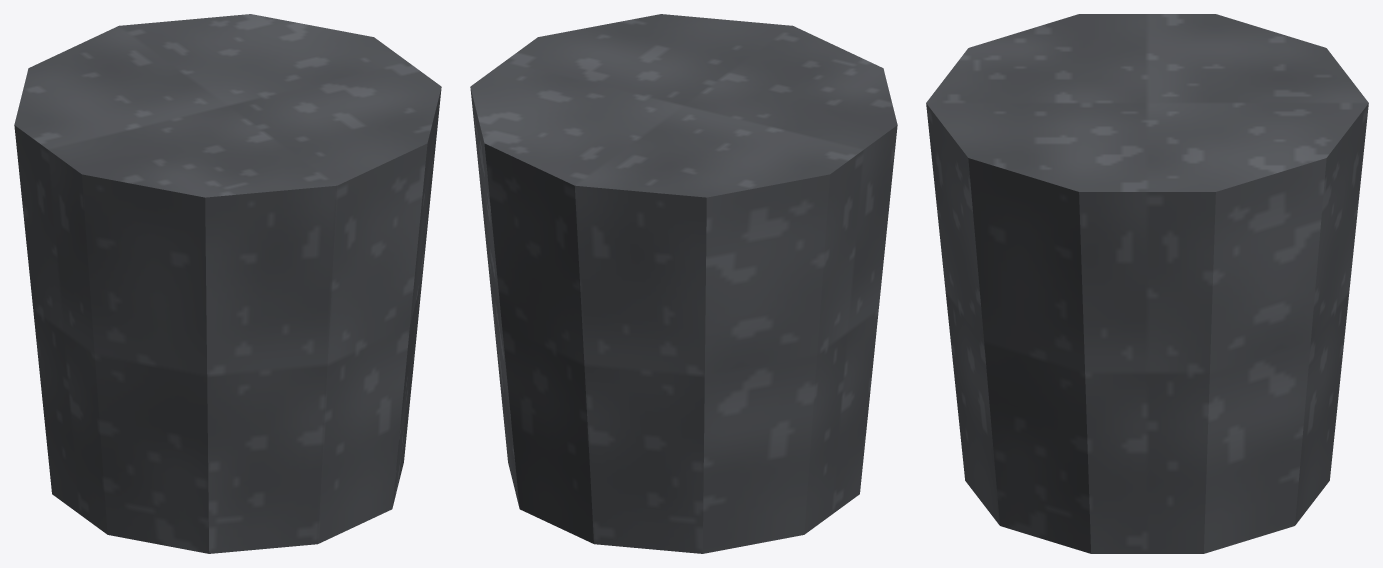
File: wiadro.glb
The picture shows the model from 3 angles, left to right: view 1: azimuth 30°, elevation 25°; view 2: azimuth 150°, elevation 25°; view 3: azimuth 270°, elevation 25°; orthographic projection.
Parts seen in each view (by area): view 1: wiadro; view 2: wiadro; view 3: wiadro.
Boxes of the visible parts, x1,y1,x2,y2 form: wiadro: (14, 14, 441, 553); wiadro: (470, 14, 897, 553); wiadro: (926, 14, 1368, 553).
Size of the model in its own units: 0.3234 by 0.32 by 0.34.
Materials: 2 (1 with a texture image).
